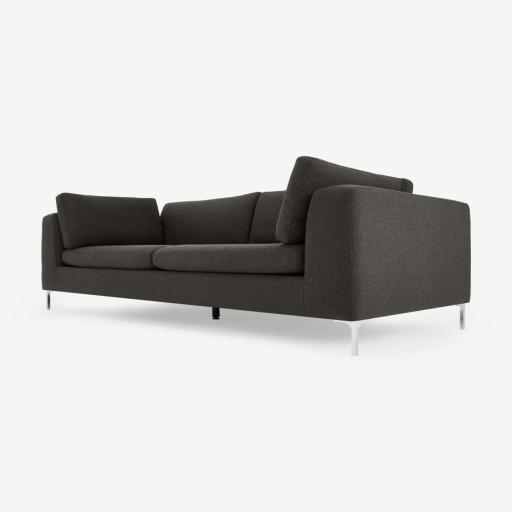back_cushion: (56, 157, 413, 249)
base: (43, 266, 307, 315)
left_arm: (303, 185, 470, 320)
legs: (342, 321, 361, 355), (46, 290, 51, 310), (212, 307, 219, 319), (461, 308, 463, 328)
right_arm: (42, 213, 65, 290)
seat_cushion: (64, 244, 304, 275)
two-seater: (0, 0, 511, 512)
